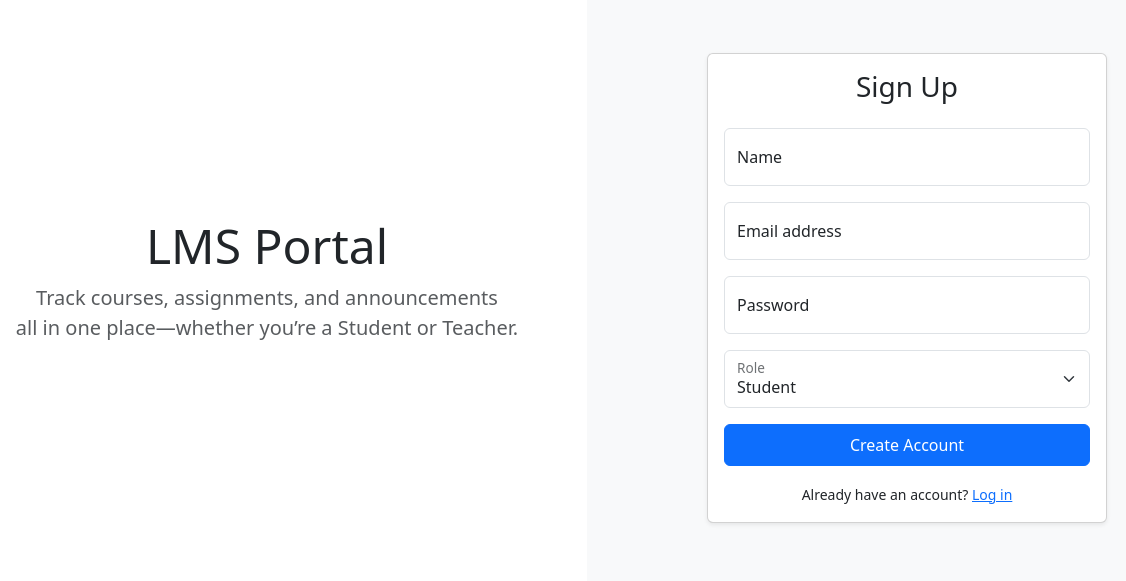
Register Page › should display an error message if registration fails
In the field with placeholder "Name": x=907, y=157 left=724, top=128, right=1090, bottom=186, type "Test User"
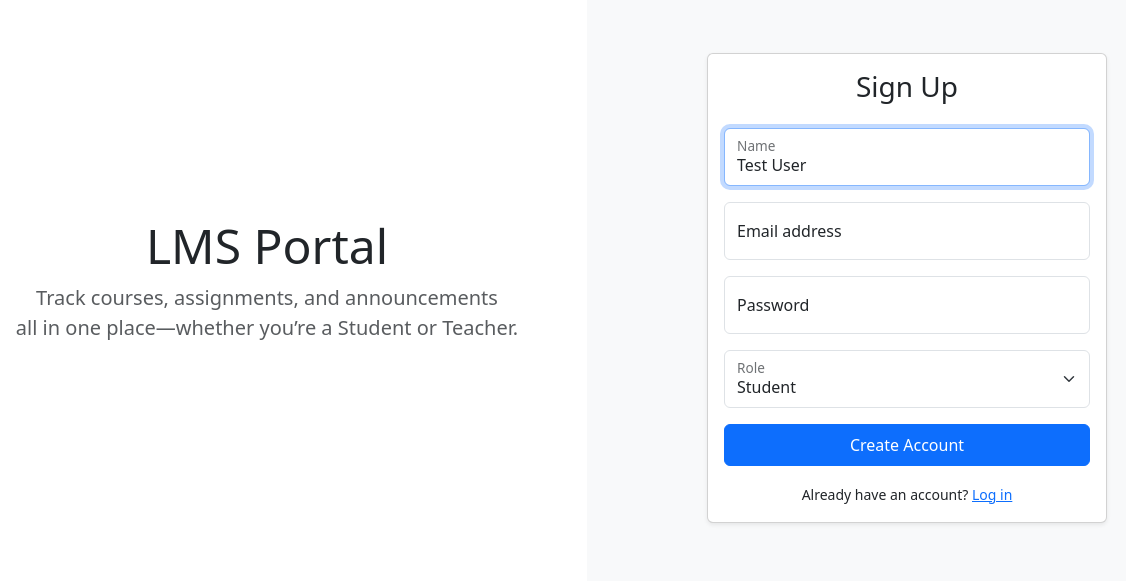
In the field with placeholder "name@example.com": x=907, y=231 left=724, top=202, right=1090, bottom=260, type "student@example.com"
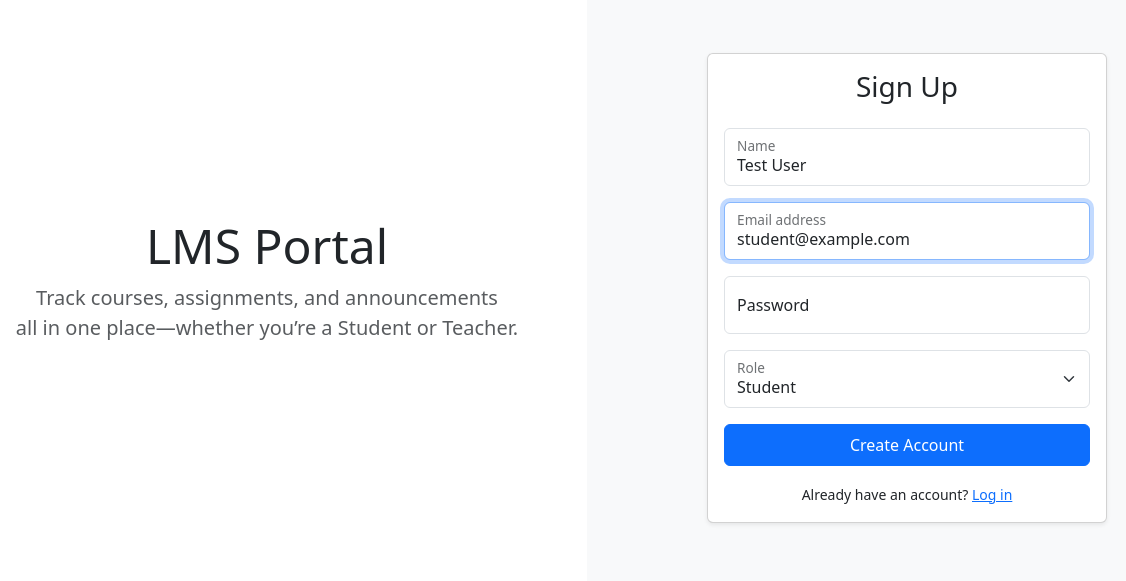
In the password field with placeholder "Password": x=907, y=305 left=724, top=276, right=1090, bottom=334, type "securepassword"
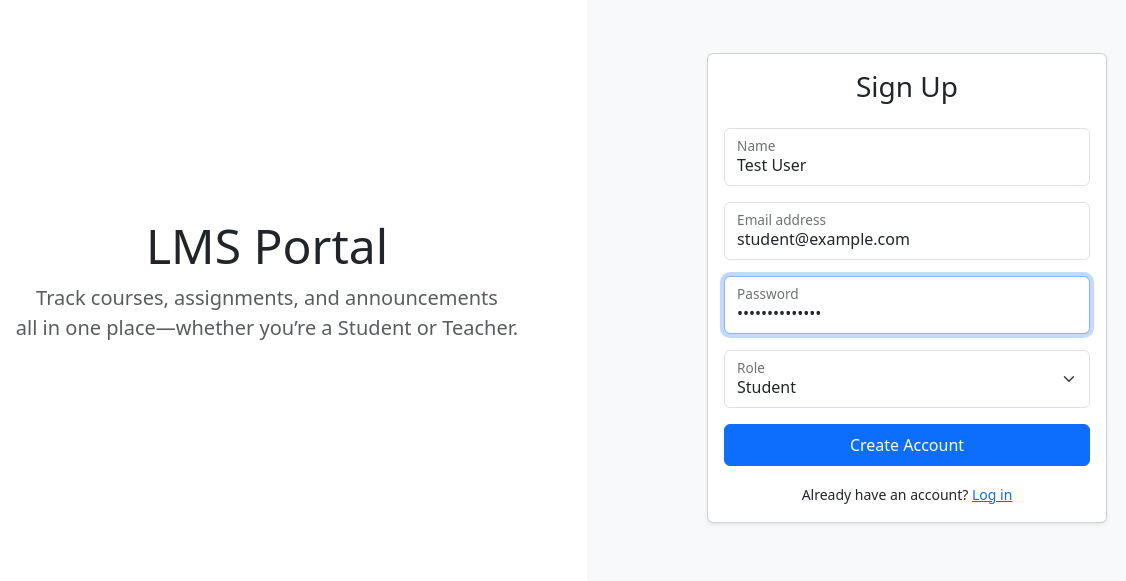
Select "Student" in the dropdown labelled "Role": x=907, y=379 left=724, top=350, right=1090, bottom=408
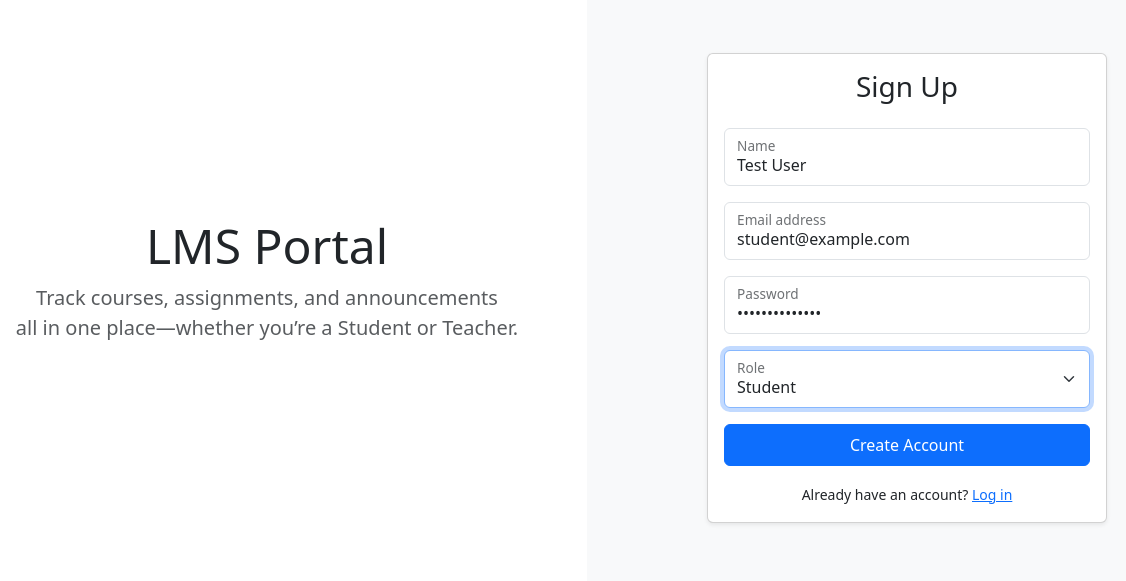
Click the button "Create Account": x=907, y=445 left=724, top=424, right=1090, bottom=466
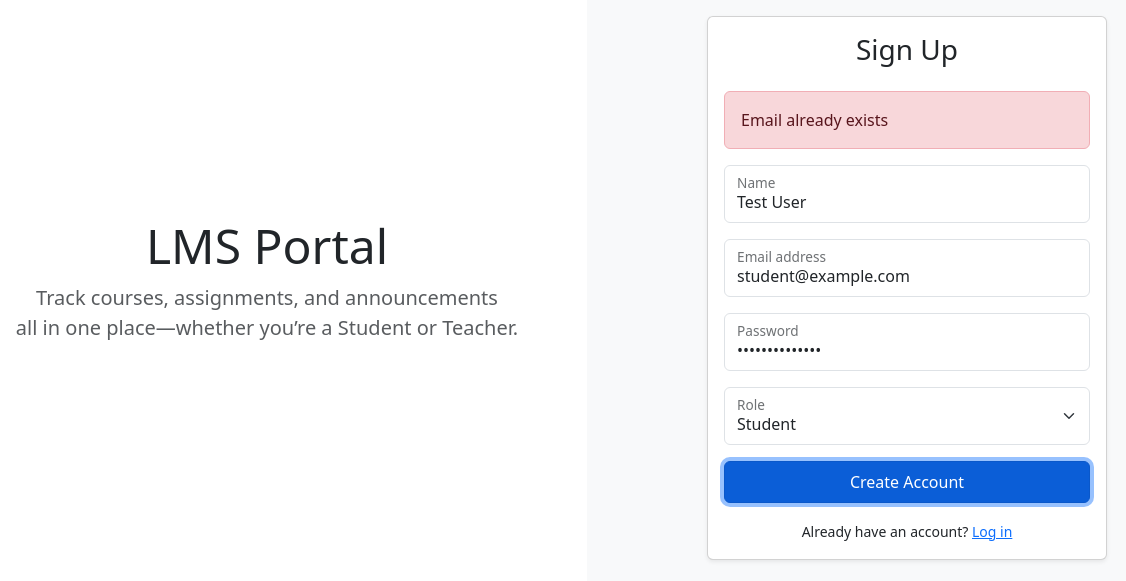
Now the message with class "alert-danger" reads "Email already exists", box left=724, top=91, right=1090, bottom=149
